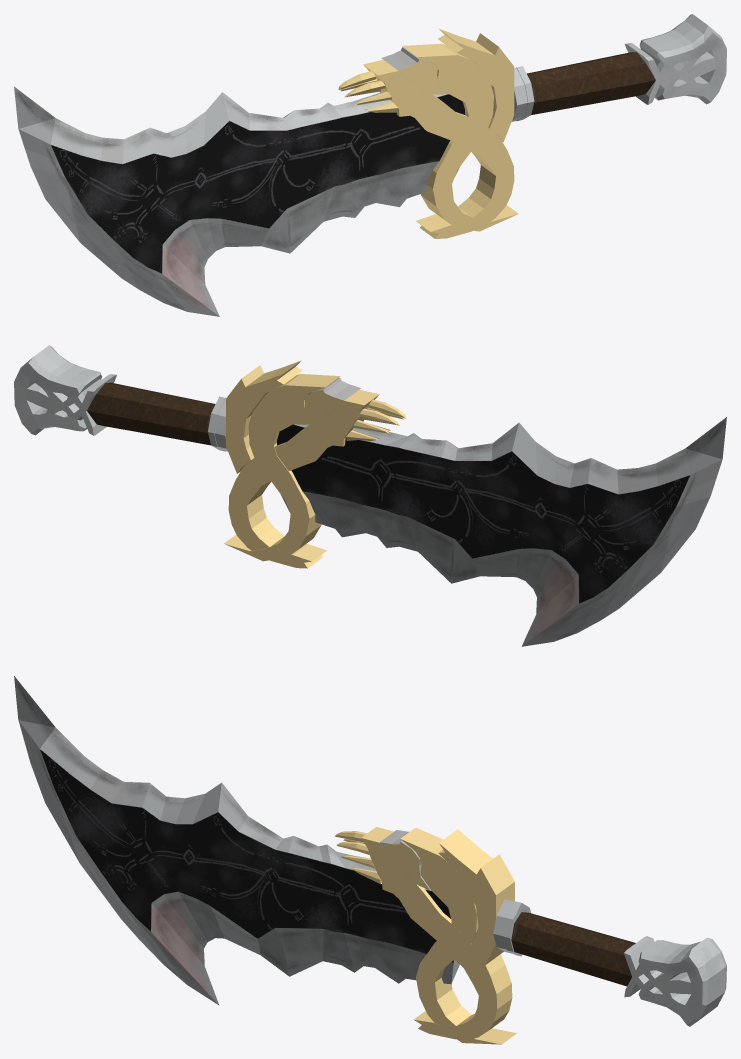
Rendered from espadas_del_caos.glb.
3 views of the same model, one above another, from view 1: azimuth 30°, elevation 25°; view 2: azimuth 150°, elevation 25°; view 3: azimuth 330°, elevation 25° (orthographic).
Parts seen in each view (by area): view 1: ESPADA_UV; view 2: ESPADA_UV; view 3: ESPADA_UV.
Part boxes in pixels (x1=…): ESPADA_UV: x1=14, y1=14, x2=726, y2=316; ESPADA_UV: x1=14, y1=345, x2=726, y2=646; ESPADA_UV: x1=14, y1=676, x2=726, y2=1044.
Size of the model in its own units: 541 by 206 by 31.74.
Materials: 1 (1 with a texture image).
